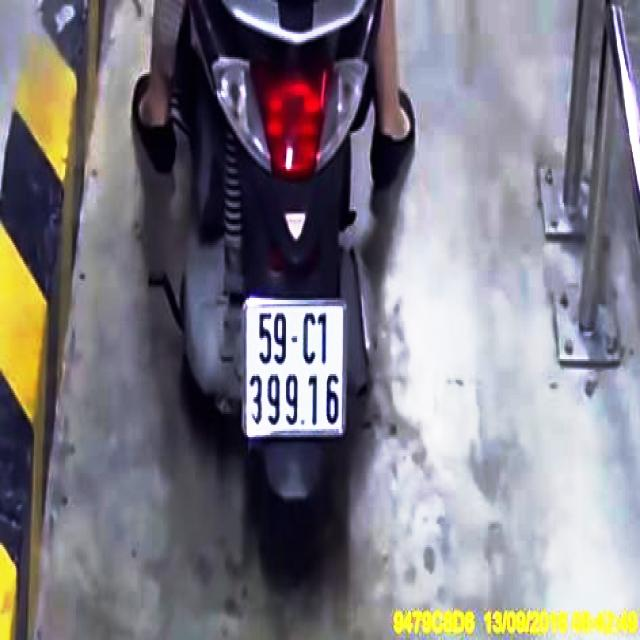license_plate: (247, 302, 348, 431)
